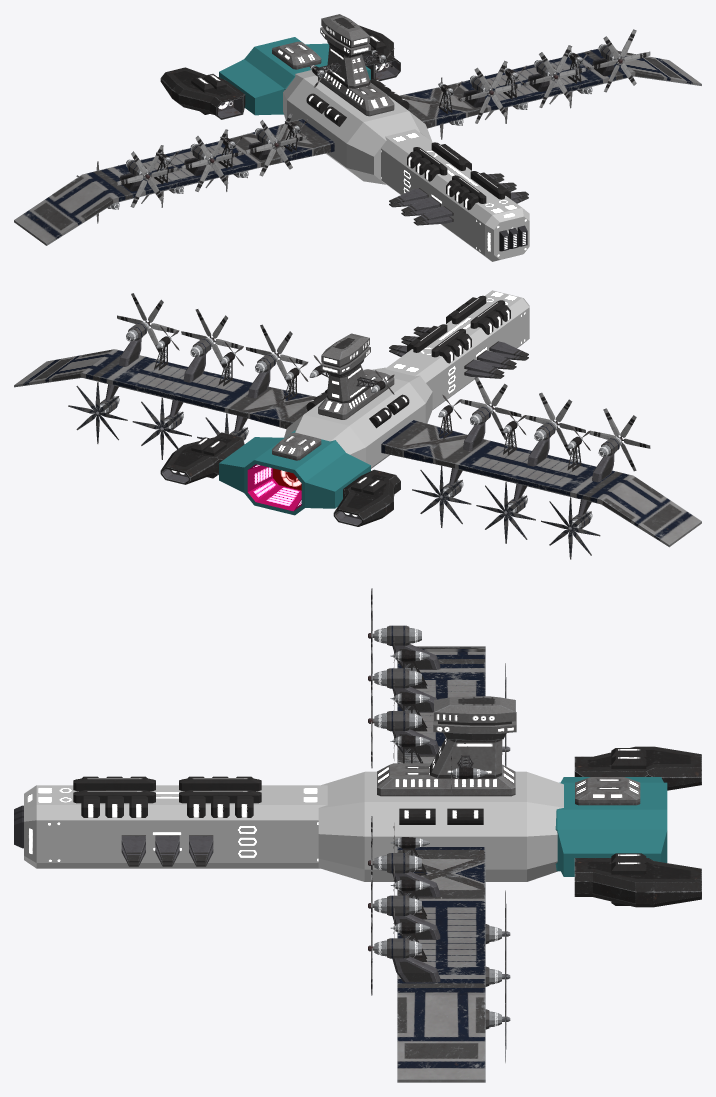
File: SHIP2.fbx
3 renders of one model, top to bottom at view 1: azimuth 30°, elevation 25°; view 2: azimuth 150°, elevation 25°; view 3: azimuth 270°, elevation 25°, orthographic. The views are drawn at different scales.
Visible parts, largest first — view 1: wing_l_5.R.001, bow_m_2.001, mid_m_1.002, wing_l_5.L.001, stern_m_2.001, thruster_l_2.004, bridge_m_1.003, platform_l_1.002, tower_m_1.003, thruster_l_2.003, platform_m_1.002, propeller_m_1.004 (+10 smaller); view 2: wing_l_5.R.001, wing_l_5.L.001, stern_m_2.001, mid_m_1.002, bow_m_2.001, thruster_l_2.004, thruster_l_2.003, bridge_m_1.003, platform_l_1.002, tower_m_1.003, platform_m_1.002, propeller_m_2.006 (+13 smaller); view 3: bow_m_2.001, mid_m_1.002, wing_l_5.L.001, stern_m_2.001, thruster_l_2.003, wing_l_5.R.001, platform_l_1.002, bridge_m_1.003, thruster_l_2.004, tower_m_1.003, platform_m_1.002, rec_addon_1.003 (+8 smaller).
Boxes of the visible parts, bbox=[...] form: wing_l_5.R.001: bbox=[14, 119, 334, 245]; bow_m_2.001: bbox=[381, 129, 529, 261]; mid_m_1.002: bbox=[283, 67, 431, 184]; wing_l_5.L.001: bbox=[399, 48, 701, 128]; stern_m_2.001: bbox=[219, 37, 370, 115]; thruster_l_2.004: bbox=[160, 67, 245, 119]; bridge_m_1.003: bbox=[320, 14, 370, 57]; platform_l_1.002: bbox=[318, 70, 394, 116]; tower_m_1.003: bbox=[327, 46, 370, 88]; thruster_l_2.003: bbox=[359, 25, 400, 81]; platform_m_1.002: bbox=[272, 41, 321, 69]; propeller_m_1.004: bbox=[589, 29, 650, 92]; wing_l_5.R.001: bbox=[381, 420, 701, 547]; wing_l_5.L.001: bbox=[14, 349, 316, 429]; stern_m_2.001: bbox=[219, 430, 370, 515]; mid_m_1.002: bbox=[284, 367, 432, 468]; bow_m_2.001: bbox=[385, 290, 529, 409]; thruster_l_2.004: bbox=[333, 469, 400, 526]; thruster_l_2.003: bbox=[160, 432, 244, 484]; bridge_m_1.003: bbox=[320, 333, 370, 376]; platform_l_1.002: bbox=[318, 369, 394, 419]; tower_m_1.003: bbox=[327, 365, 370, 403]; platform_m_1.002: bbox=[272, 432, 321, 460]; propeller_m_2.006: bbox=[541, 497, 600, 559]; bow_m_2.001: bbox=[24, 785, 327, 868]; mid_m_1.002: bbox=[318, 771, 563, 881]; wing_l_5.L.001: bbox=[397, 847, 485, 1082]; stern_m_2.001: bbox=[555, 777, 667, 876]; thruster_l_2.003: bbox=[574, 858, 701, 907]; wing_l_5.R.001: bbox=[397, 646, 485, 763]; platform_l_1.002: bbox=[377, 763, 515, 796]; bridge_m_1.003: bbox=[433, 696, 516, 740]; thruster_l_2.004: bbox=[574, 746, 701, 790]; tower_m_1.003: bbox=[430, 738, 502, 778]; platform_m_1.002: bbox=[575, 777, 640, 805]; rec_addon_1.003: bbox=[73, 778, 155, 790].
Bounding box in the file's own units: 213 × 46.82 × 143.
